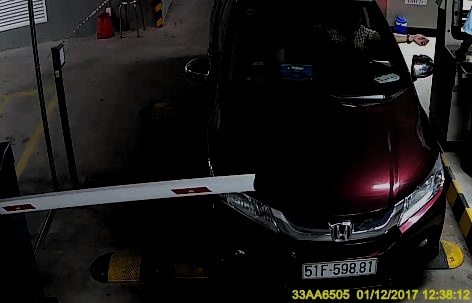plate: (298, 256, 378, 277)
